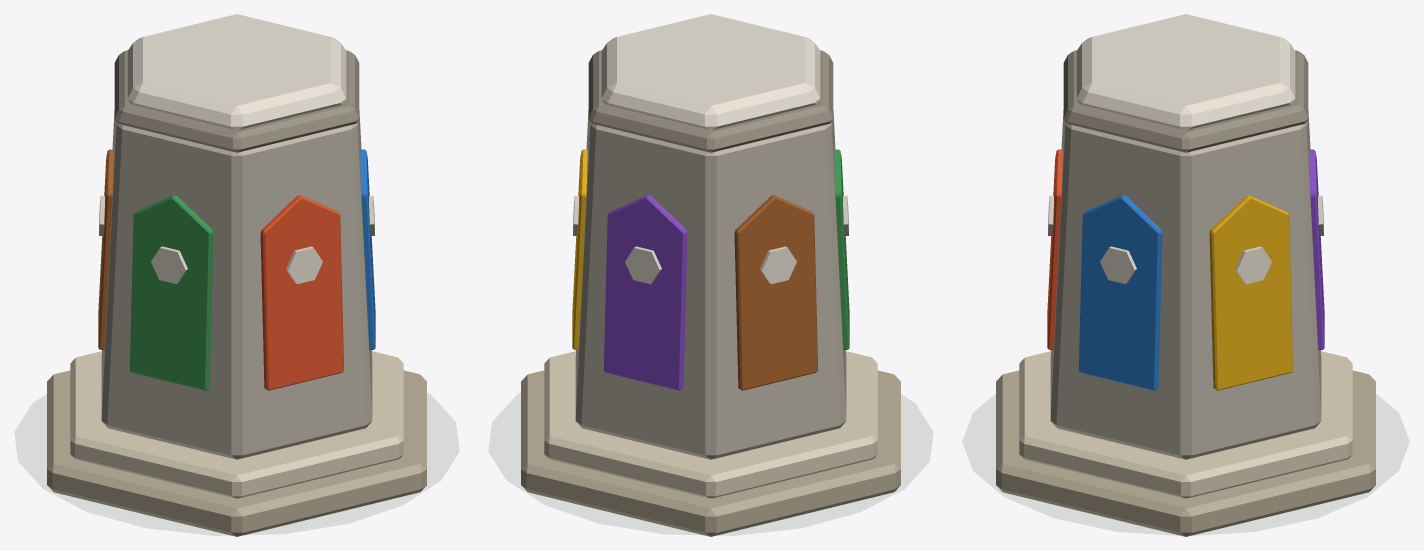
Rendered from seal_stone.glb.
3 views of the same model, side by side, from view 1: azimuth 30°, elevation 25°; view 2: azimuth 150°, elevation 25°; view 3: azimuth 270°, elevation 25° (orthographic).
Parts seen in each view (by area): view 1: seal_stone; view 2: seal_stone; view 3: seal_stone.
Boxes of the visible parts, x1=… form: seal_stone: x1=47, y1=14, x2=426, y2=536; seal_stone: x1=521, y1=14, x2=900, y2=536; seal_stone: x1=996, y1=14, x2=1375, y2=536.
Bounding box in the file's own units: 2 × 1.91 × 2.
